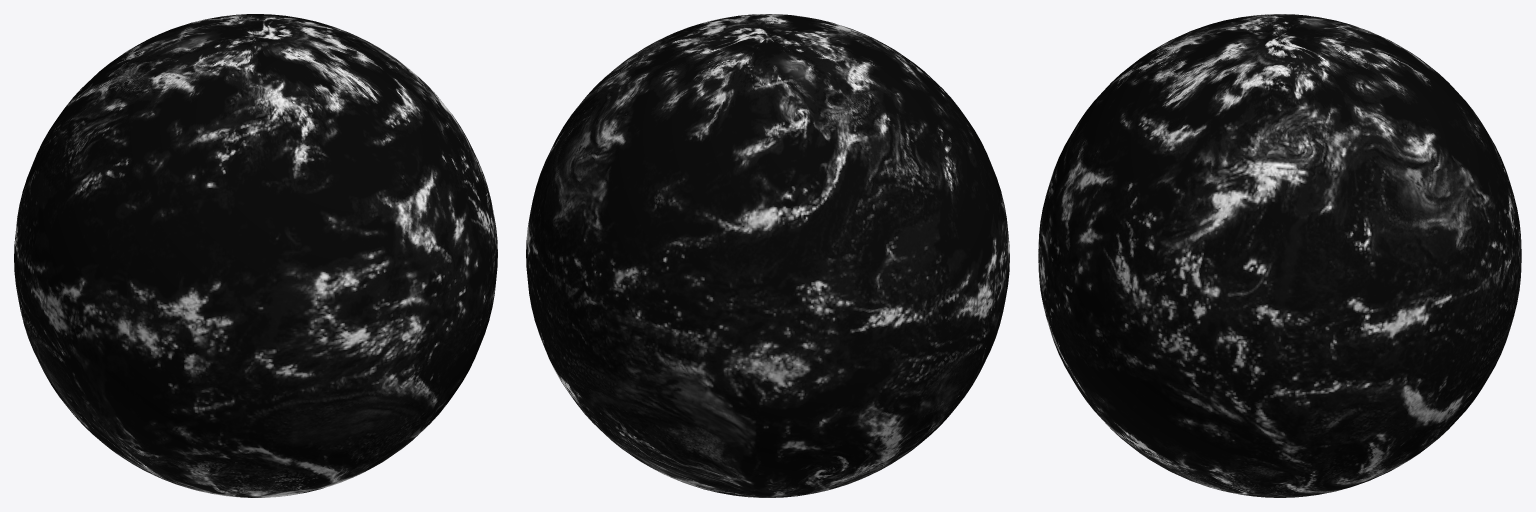
File: earth.glb
The picture shows the model from 3 angles, left to right: view 1: azimuth 30°, elevation 25°; view 2: azimuth 150°, elevation 25°; view 3: azimuth 270°, elevation 25°; orthographic projection.
Visible parts, largest first — view 1: clouds; view 2: clouds; view 3: clouds.
Boxes of the visible parts, x1,y1,x2,y2 form: clouds: [14, 14, 497, 497]; clouds: [526, 14, 1009, 497]; clouds: [1038, 14, 1521, 497].
Bounding box in the file's own units: 11.66 × 11.66 × 11.64.
2 materials, 2 textured.
